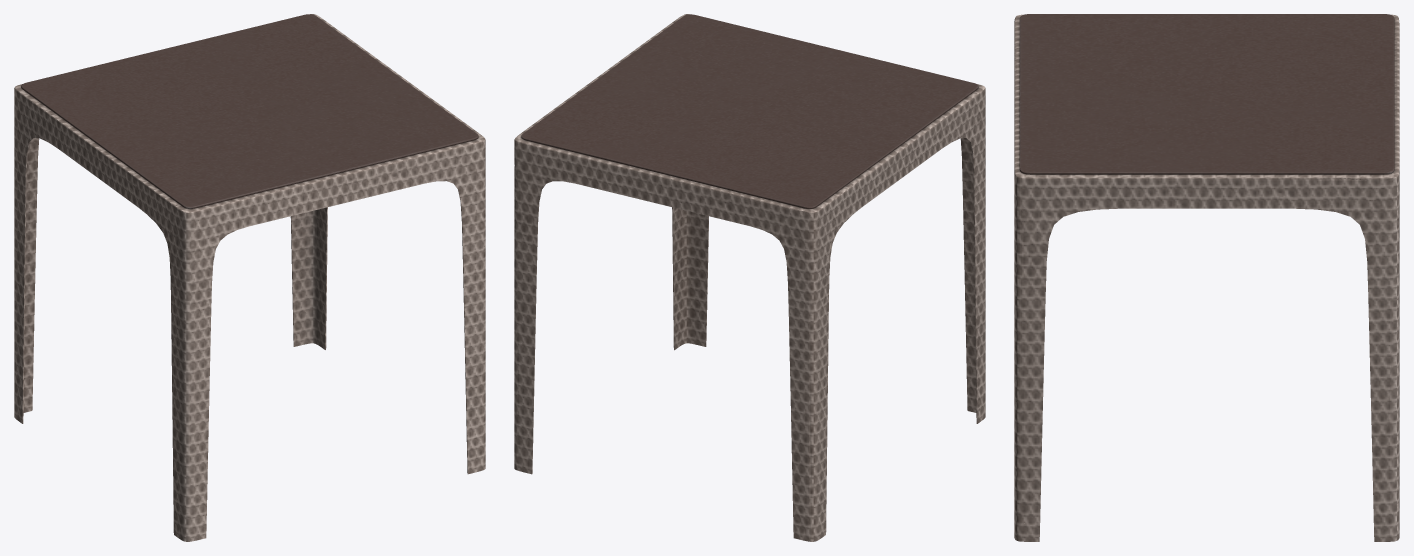
Rendered from 4_d7817105-3471-4fb8-be9c-22077d239cbe.obj.
The picture shows the model from 3 angles, left to right: view 1: azimuth 30°, elevation 25°; view 2: azimuth 150°, elevation 25°; view 3: azimuth 270°, elevation 25°; orthographic projection. The views are drawn at different scales.
Bounding box in the file's own units: 0.7748 × 0.8094 × 0.7708.
1 material, 1 textured.
